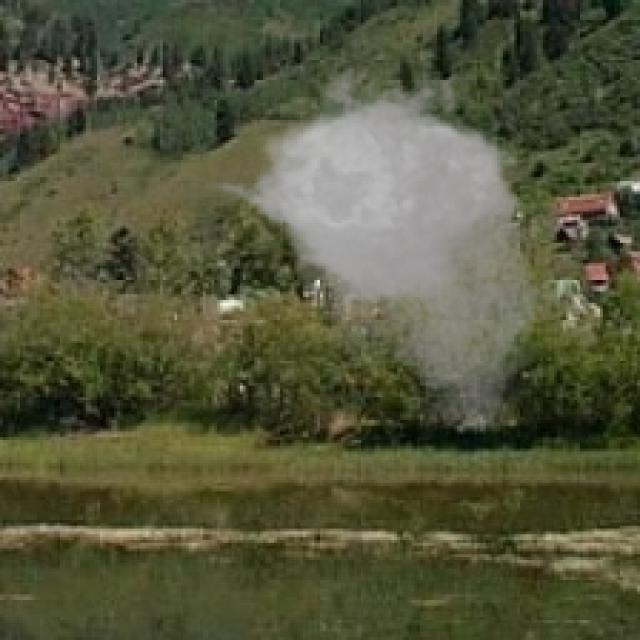smoke: (203, 54, 557, 440)
